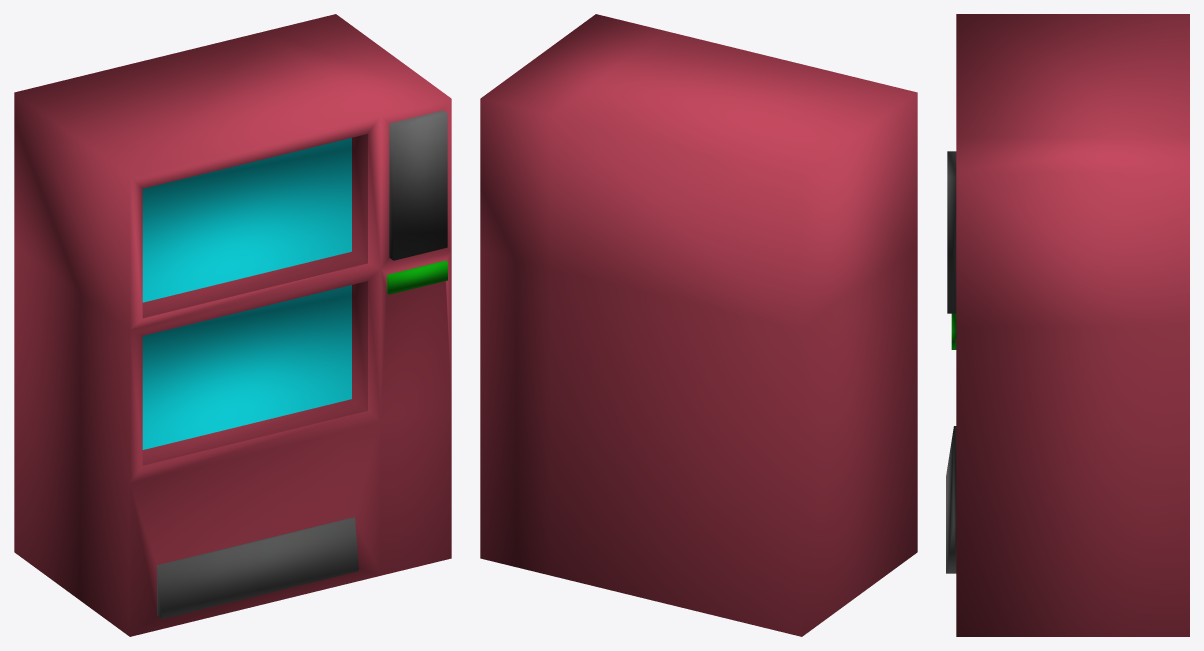
The model's file is MaquinaVenda.fbx.
3 views of the same model, side by side, from view 1: azimuth 30°, elevation 25°; view 2: azimuth 150°, elevation 25°; view 3: azimuth 270°, elevation 25° (orthographic).
Parts seen in each view (by area): view 1: MaquinaVendas; view 2: MaquinaVendas; view 3: MaquinaVendas.
Boxes of the visible parts, <box> form: MaquinaVendas: <box>14,14,451,636</box>; MaquinaVendas: <box>480,14,917,636</box>; MaquinaVendas: <box>946,14,1189,636</box>.
Size of the model in its own units: 117 by 159 by 75.87.
